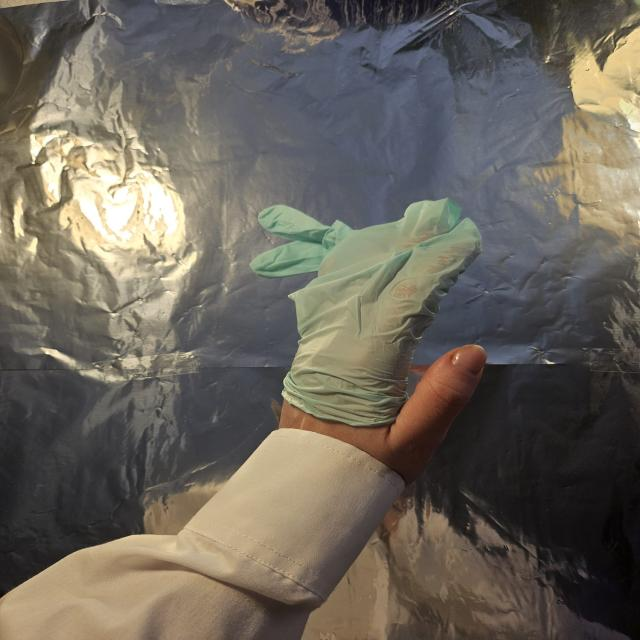glove_partial: (249, 198, 486, 477)
